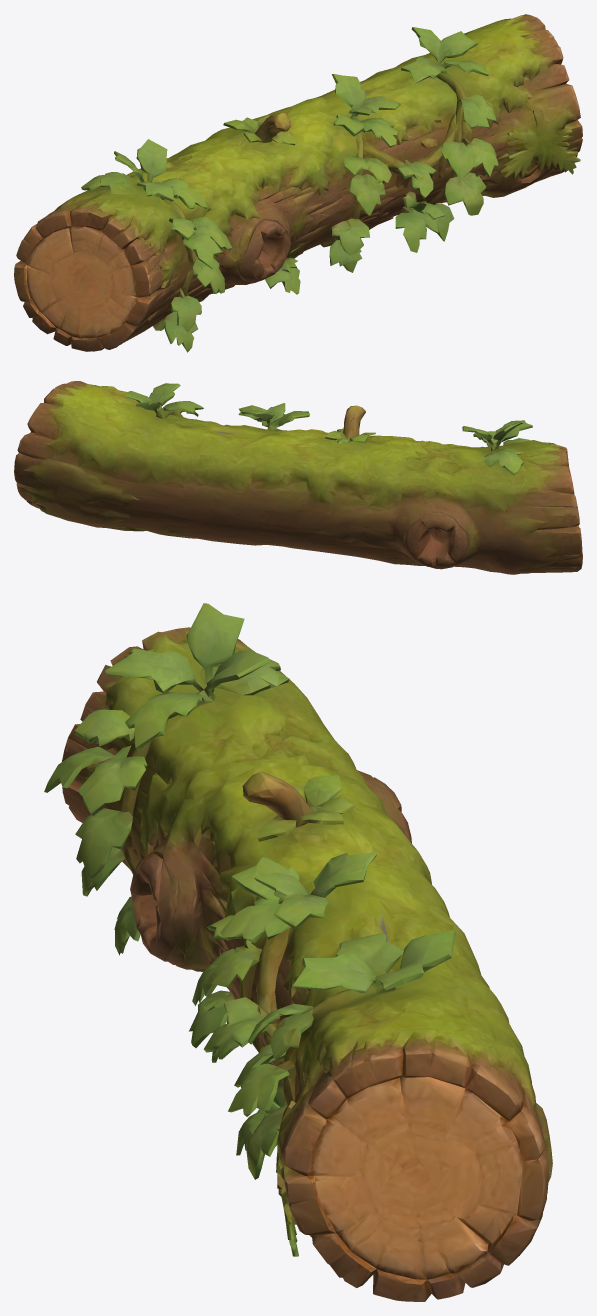
The model's file is tronco_musgoso.glb.
3 views of the same model, one above another, from view 1: azimuth 30°, elevation 25°; view 2: azimuth 150°, elevation 25°; view 3: azimuth 270°, elevation 25° (orthographic). The views are drawn at different scales.
Parts seen in each view (by area): view 1: tronco_musgoso_malla; view 2: tronco_musgoso_malla; view 3: tronco_musgoso_malla.
Boxes of the visible parts, left/top/right/bottom form: tronco_musgoso_malla: left=14, top=14, right=582, bottom=352; tronco_musgoso_malla: left=14, top=381, right=582, bottom=574; tronco_musgoso_malla: left=44, top=603, right=552, bottom=1301.
Size of the model in its own units: 0.6432 by 0.2004 by 0.2851.
1 material, 1 textured.
